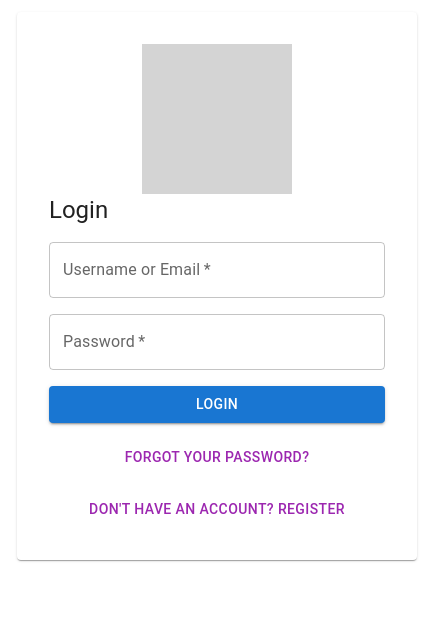
LoginPage two-factor step › a locked account says so
The width and height of the screenshot is (435, 627).
Type "alice" into the field labelled "Username or Email *". click: (217, 270)
box: [49, 242, 385, 298]
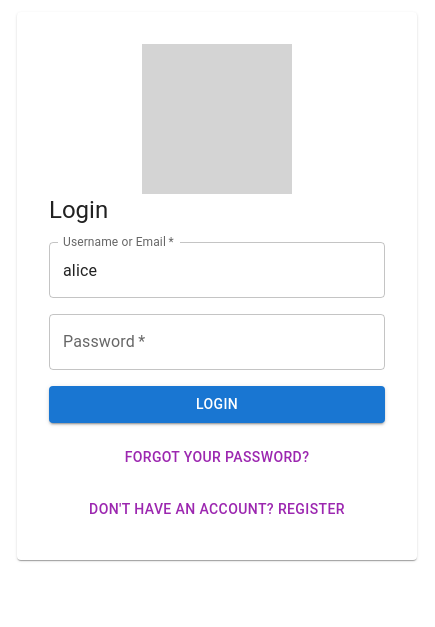
Type "pw-12345678" into the password field labelled "Password *". click: (217, 342)
box: [49, 314, 385, 370]
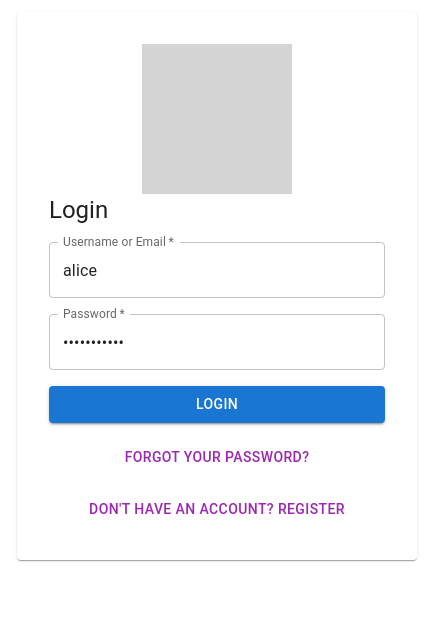
Click the button "Login". click: (217, 404)
box: [49, 386, 385, 422]
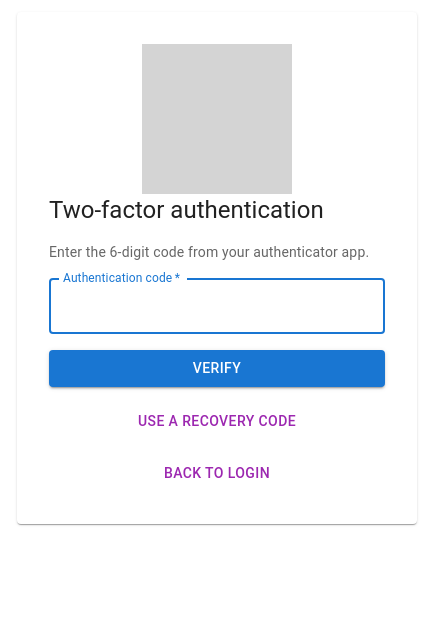
Type "000000" into the field labelled "Authentication code *". click: (217, 306)
box: [49, 278, 385, 334]
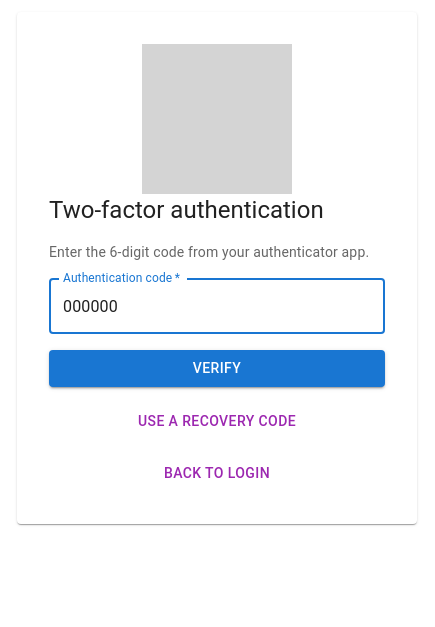
Click the button "Verify". click: (217, 368)
box: [49, 350, 385, 386]
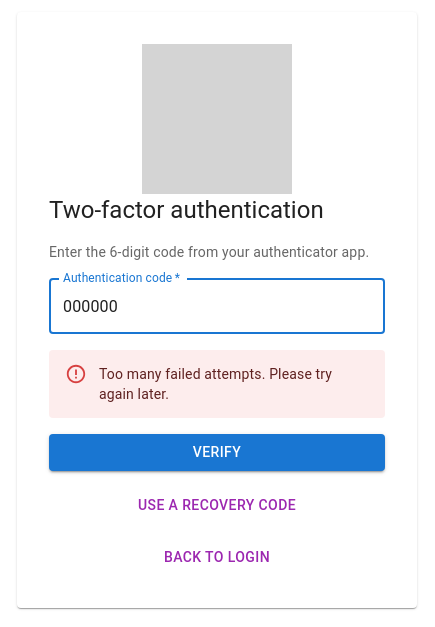
Now the text "Too many failed attempts. Please try again later." is shown, box [99, 356, 369, 412]
